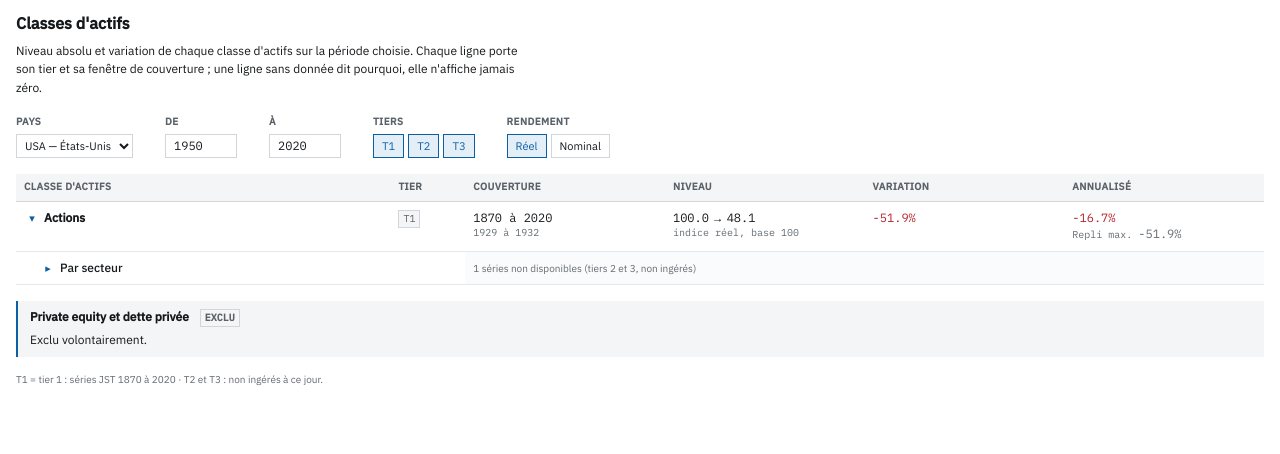
Test case: AssetClassesView › starts with all-unavailable groups collapsed, and expanding reveals each row with its reason
Expected: the column heading "▾ Actions" is shown, [16, 202, 390, 251]
Expected: the column heading "▸ Par secteur" is shown, [16, 251, 390, 284]
What coordinates should you click on to do the following:
click the button named "Déplier Par secteur"
I would click on:
 (48, 268)
Its box is [40, 261, 56, 275].
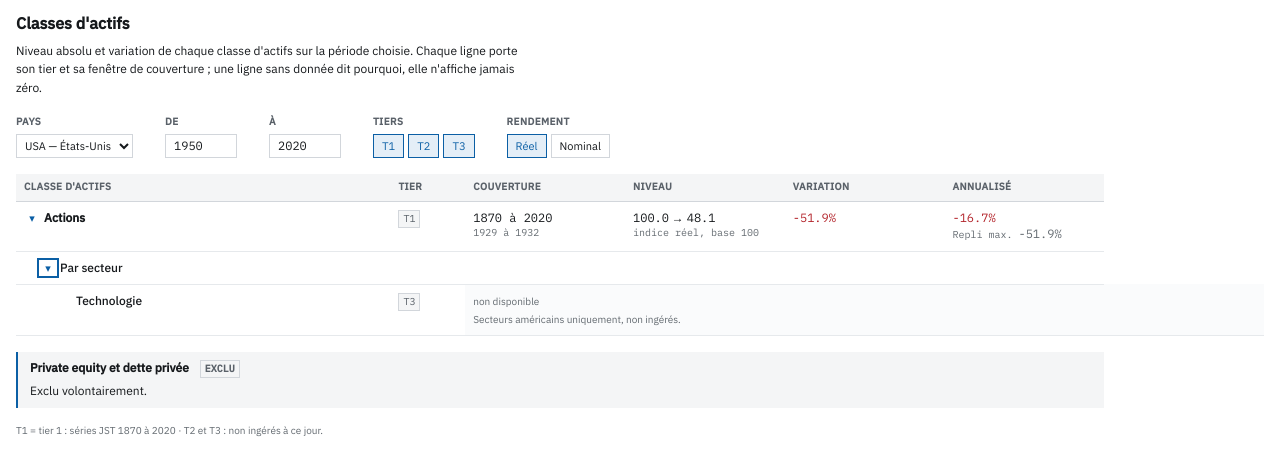
Expected: the text "non disponible" is shown, [473, 295, 539, 308]
Now the text "Secteurs américains uniquement, non ingérés." is shown, box [473, 313, 681, 326]
Now the text titled "Tier 3" reads "T3", box [403, 295, 415, 308]
